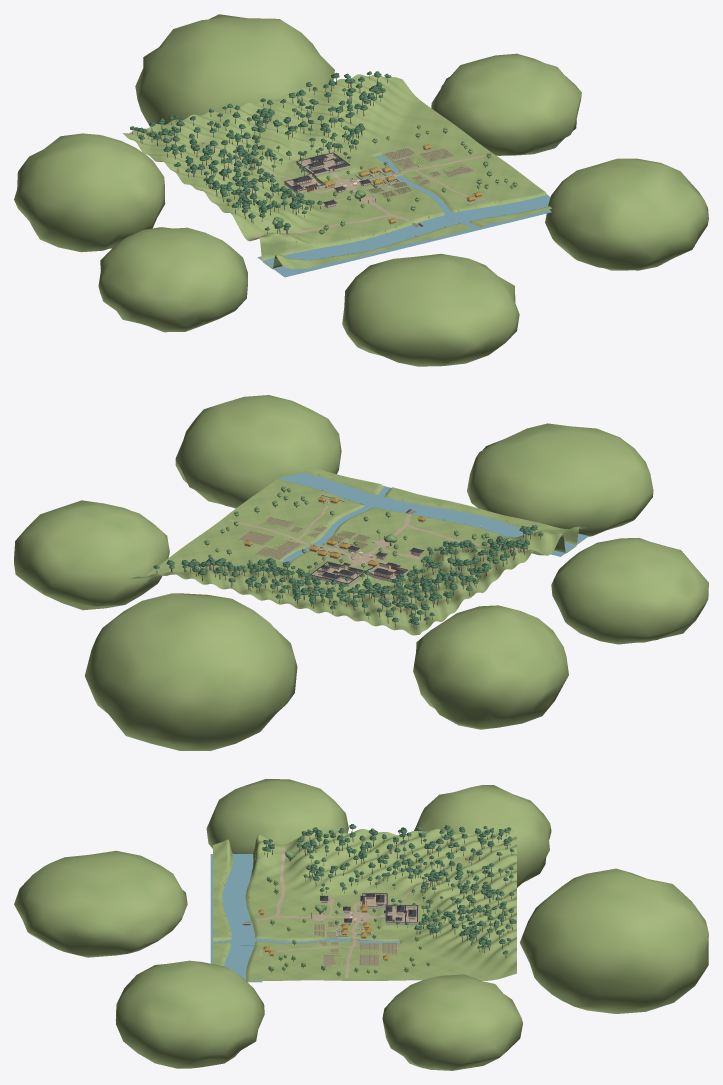
File: joseon.glb
The picture shows the model from 3 angles, top to bottom: view 1: azimuth 30°, elevation 25°; view 2: azimuth 150°, elevation 25°; view 3: azimuth 270°, elevation 25°; orthographic projection. The views are drawn at different scales.
Parts seen in each view (by area): view 1: static_grass, static_pine, static_water, static_dirt, static_bark, static_paddy, static_rice, static_tile, static_leaf2; view 2: static_grass, static_pine, static_water, static_dirt, static_bark, static_paddy, static_rice, static_tile, static_leaf2; view 3: static_grass, static_pine, static_water, static_dirt, static_bark, static_paddy, static_rice, static_tile, static_leaf2.
Boxes of the visible parts, x1=… form: static_grass: x1=14, y1=14, x2=708, y2=366; static_pine: x1=130, y1=71, x2=391, y2=230; static_water: x1=257, y1=155, x2=551, y2=277; static_dirt: x1=204, y1=146, x2=486, y2=237; static_bark: x1=132, y1=75, x2=387, y2=234; static_paddy: x1=368, y1=148, x2=472, y2=197; static_rice: x1=285, y1=148, x2=534, y2=256; static_tile: x1=284, y1=152, x2=371, y2=205; static_leaf2: x1=272, y1=125, x2=517, y2=233; static_grass: x1=14, y1=395, x2=708, y2=750; static_pine: x1=153, y1=525, x2=543, y2=624; static_water: x1=279, y1=473, x2=588, y2=562; static_dirt: x1=229, y1=505, x2=542, y2=604; static_bark: x1=156, y1=530, x2=535, y2=629; static_paddy: x1=240, y1=517, x2=369, y2=558; static_rice: x1=241, y1=474, x2=512, y2=561; static_tile: x1=310, y1=545, x2=423, y2=583; static_leaf2: x1=204, y1=486, x2=513, y2=569; static_grass: x1=14, y1=779, x2=708, y2=1070; static_pine: x1=262, y1=824, x2=516, y2=954; static_water: x1=210, y1=854, x2=399, y2=982; static_dirt: x1=255, y1=847, x2=462, y2=977; static_bark: x1=264, y1=829, x2=512, y2=958; static_paddy: x1=314, y1=922, x2=397, y2=965; static_rice: x1=221, y1=851, x2=396, y2=965; static_tile: x1=320, y1=893, x2=417, y2=922; static_leaf2: x1=266, y1=851, x2=429, y2=975.
Size of the model in its own units: 515 by 114 by 595.
29 materials, 6 textured.
